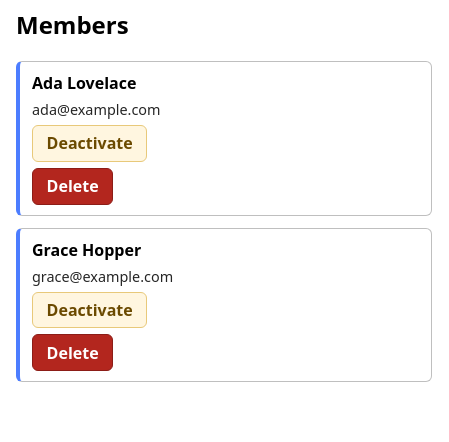
Test: MembersPage › renders the exact deactivate error next to the row and keeps it active
Expected: the text "Ada Lovelace" is shown, [32,72,136,94]
Click the button "Deactivate" below "Ada Lovelace" at [90, 143], box [32,125,147,162]
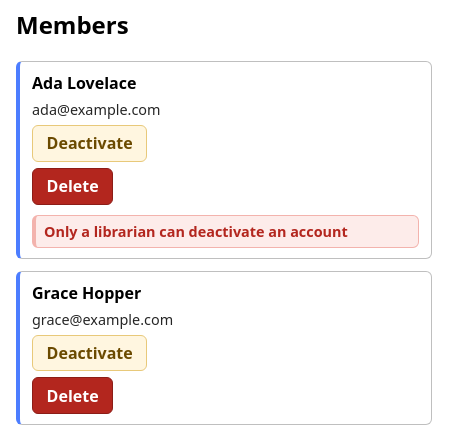
Expected: the list item that starts with "Ada Lovelace" is shown, [32,72,136,94]
Expected: the message reads "Only a librarian can deactivate an account", [44,222,348,241]
